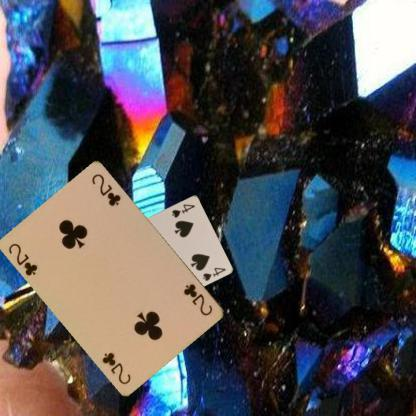2c: (6, 240, 39, 278), (181, 281, 214, 317)
4s: (170, 201, 196, 219)
